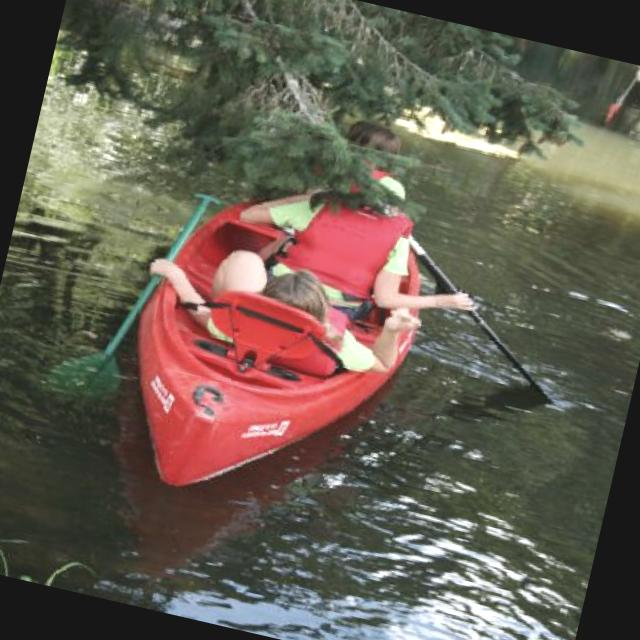Person: (214, 139, 510, 351), (132, 227, 436, 396), (258, 100, 428, 230)
